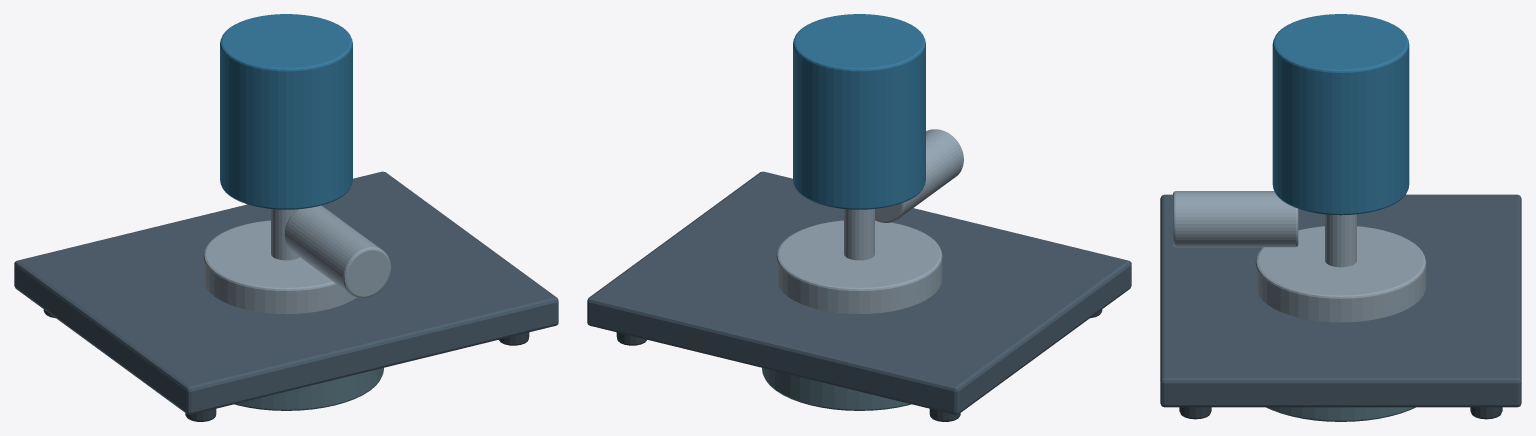
The model's file is leachate-pump-lod0.glb.
3 views of the same model, side by side, from view 1: azimuth 30°, elevation 25°; view 2: azimuth 150°, elevation 25°; view 3: azimuth 270°, elevation 25° (orthographic). The views are drawn at different scales.
Parts seen in each view (by area): view 1: drive_base, leachate_motor, leachate_impeller_housing, leachate_inlet, leachate_intake_cage, leachate_shaft; view 2: drive_base, leachate_motor, leachate_impeller_housing, leachate_intake_cage, leachate_inlet, leachate_shaft; view 3: drive_base, leachate_motor, leachate_impeller_housing, leachate_inlet, leachate_shaft, leachate_intake_cage, base_mount_1.85_1.4500000000000002, base_mount_1.85_-1.4500000000000002.
Part boxes in pixels (bbox=[...]): drive_base: bbox=[14, 171, 558, 414]; leachate_motor: bbox=[220, 14, 352, 209]; leachate_impeller_housing: bbox=[203, 220, 356, 313]; leachate_inlet: bbox=[284, 205, 390, 297]; leachate_intake_cage: bbox=[235, 368, 383, 410]; leachate_shaft: bbox=[271, 209, 299, 260]; drive_base: bbox=[587, 171, 1131, 414]; leachate_motor: bbox=[793, 14, 925, 209]; leachate_impeller_housing: bbox=[776, 220, 942, 313]; leachate_intake_cage: bbox=[762, 368, 910, 410]; leachate_inlet: bbox=[875, 129, 963, 222]; leachate_shaft: bbox=[844, 209, 874, 260]; drive_base: bbox=[1160, 194, 1521, 407]; leachate_motor: bbox=[1272, 14, 1409, 215]; leachate_impeller_housing: bbox=[1255, 226, 1426, 322]; leachate_inlet: bbox=[1173, 191, 1298, 247]; leachate_shaft: bbox=[1325, 214, 1356, 267]; leachate_intake_cage: bbox=[1266, 407, 1415, 421]; base_mount_1.85_1.4500000000000002: bbox=[1470, 407, 1502, 419]; base_mount_1.85_-1.4500000000000002: bbox=[1179, 407, 1211, 419].
Size of the model in its own units: 4.4 by 3.73 by 3.6.
